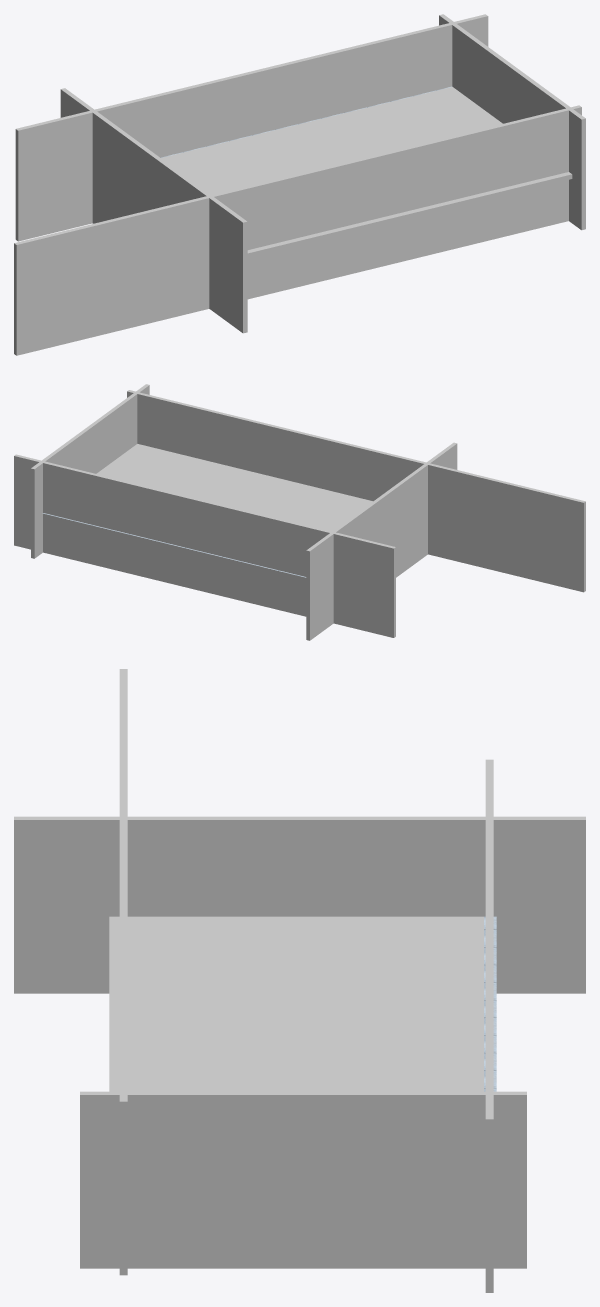
File: LoadGround2.glb
The picture shows the model from 3 angles, top to bottom: view 1: azimuth 30°, elevation 25°; view 2: azimuth 150°, elevation 25°; view 3: azimuth 270°, elevation 25°; orthographic projection. The views are drawn at different scales.
Parts seen in each view (by area): view 1: box.002, box.001, box.000, box.004, box.003; view 2: box.001, box.002, box.000, box.004, box.003, fuckinground.001; view 3: box.003, box.004, box.000, box.002, box.001, fuckinground.001.
Boxes of the visible parts, x1=… form: box.002: x1=14, y1=105, x2=581, y2=355; box.001: x1=15, y1=14, x2=488, y2=241; box.000: x1=161, y1=87, x2=572, y2=257; box.004: x1=60, y1=88, x2=247, y2=333; box.003: x1=439, y1=14, x2=585, y2=230; box.001: x1=14, y1=454, x2=395, y2=637; box.002: x1=127, y1=390, x2=585, y2=592; box.000: x1=96, y1=444, x2=372, y2=531; box.004: x1=306, y1=442, x2=457, y2=640; box.003: x1=31, y1=384, x2=149, y2=558; fuckinground.001: x1=42, y1=513, x2=306, y2=577; box.003: x1=80, y1=1091, x2=526, y2=1268; box.004: x1=14, y1=816, x2=585, y2=993; box.000: x1=109, y1=916, x2=483, y2=1091; box.002: x1=119, y1=669, x2=127, y2=1275; box.001: x1=485, y1=759, x2=493, y2=1292; fuckinground.001: x1=484, y1=916, x2=496, y2=1091.
Size of the model in its own units: 1733 by 312 by 931.
Materials: 1 (1 with a texture image).
